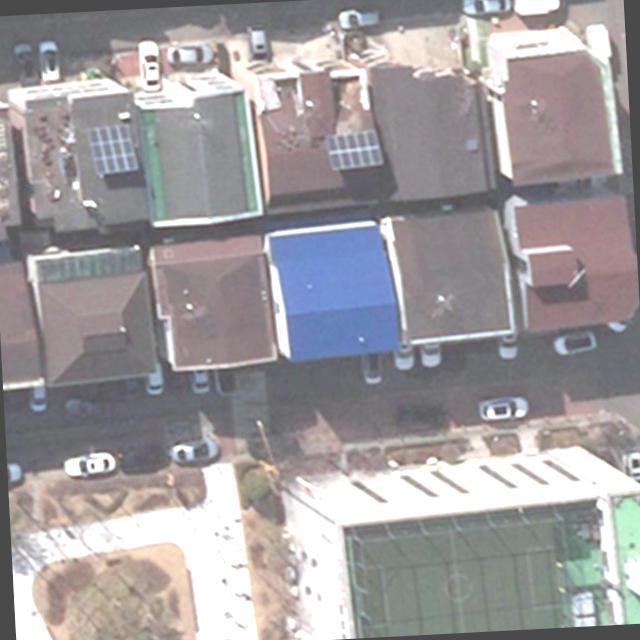solar: (88, 121, 142, 180), (322, 132, 389, 172)
